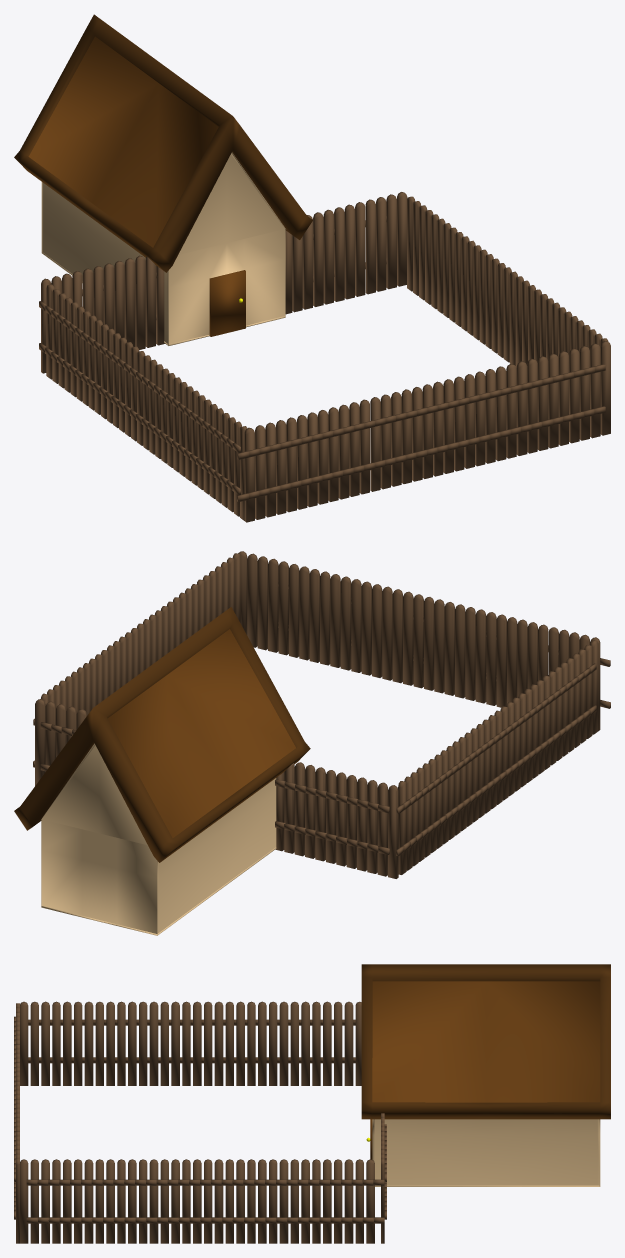
File: House.fbx
3 renders of one model, top to bottom at view 1: azimuth 30°, elevation 25°; view 2: azimuth 150°, elevation 25°; view 3: azimuth 270°, elevation 25°, orthographic. The views are drawn at different scales.
Parts seen in each view (by area): view 1: House, Fence.009, Fence.005, Fence.007, Fence.008, Fence.006, Door.001; view 2: House, Fence.009, Fence.005, Fence.006, Fence.007, Fence.008; view 3: House, Fence.007, Fence.005, Fence.009, Fence.008.
Part boxes in pixels (<box>): House: <box>14,14,312,345</box>; Fence.009: <box>237,341,610,522</box>; Fence.005: <box>39,284,247,520</box>; Fence.007: <box>407,196,608,367</box>; Fence.008: <box>285,192,407,314</box>; Fence.006: <box>41,255,164,373</box>; Door.001: <box>209,270,245,336</box>; House: <box>14,607,310,935</box>; Fence.009: <box>238,551,610,730</box>; Fence.005: <box>396,640,598,874</box>; Fence.006: <box>275,762,398,878</box>; Fence.007: <box>33,553,240,767</box>; Fence.008: <box>35,699,88,785</box>; House: <box>361,964,610,1186</box>; Fence.007: <box>20,1159,384,1243</box>; Fence.005: <box>20,1001,361,1085</box>; Fence.009: <box>14,1003,19,1243</box>; Fence.008: <box>381,1113,386,1243</box>.
Bounding box in the file's own units: 2329 × 1312 × 3577.
